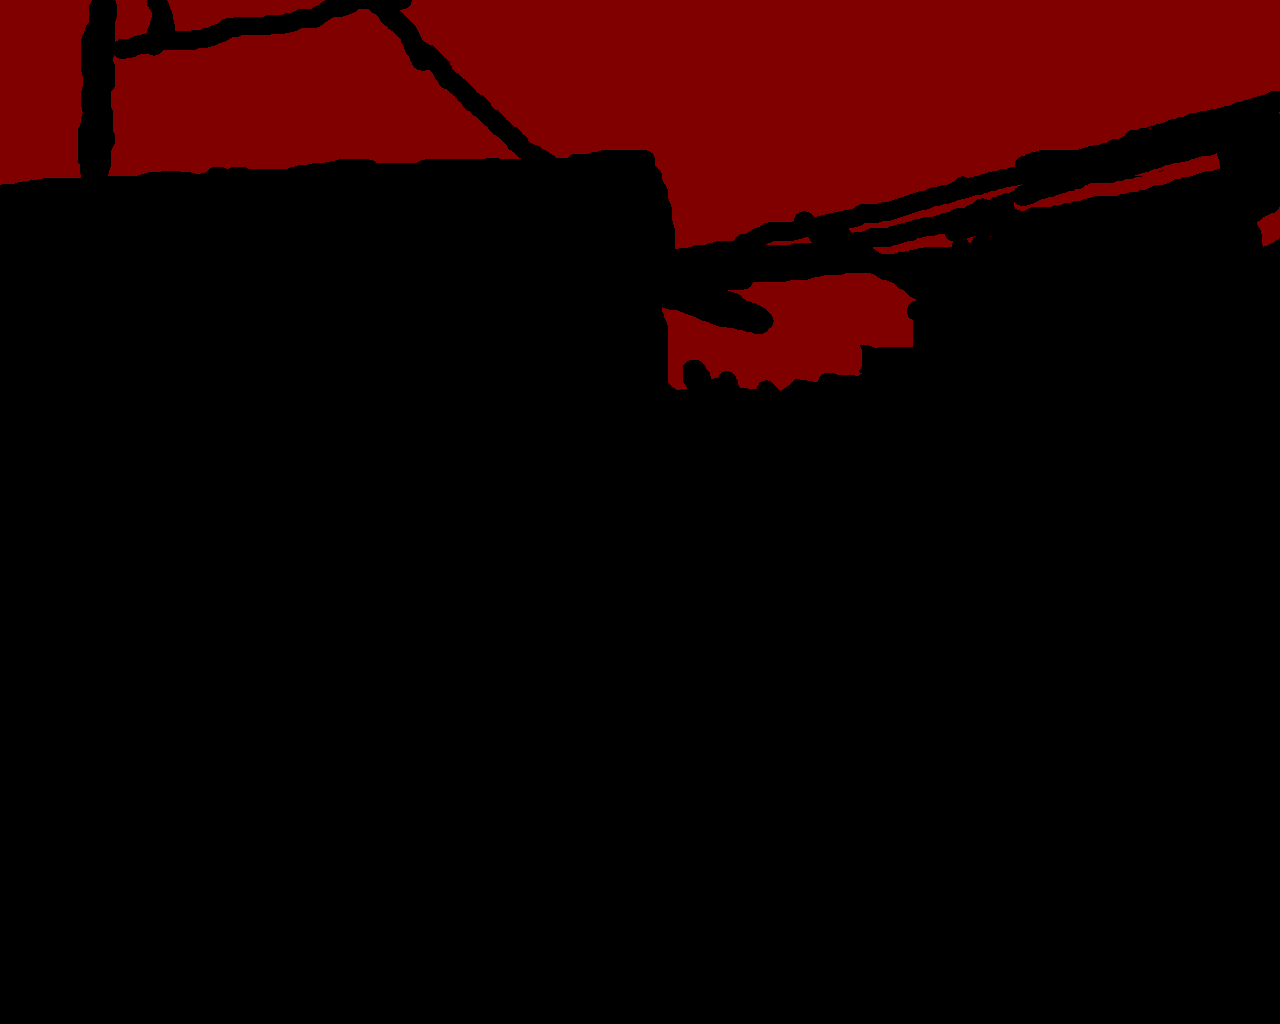Sky: (1, 1, 1279, 391)
